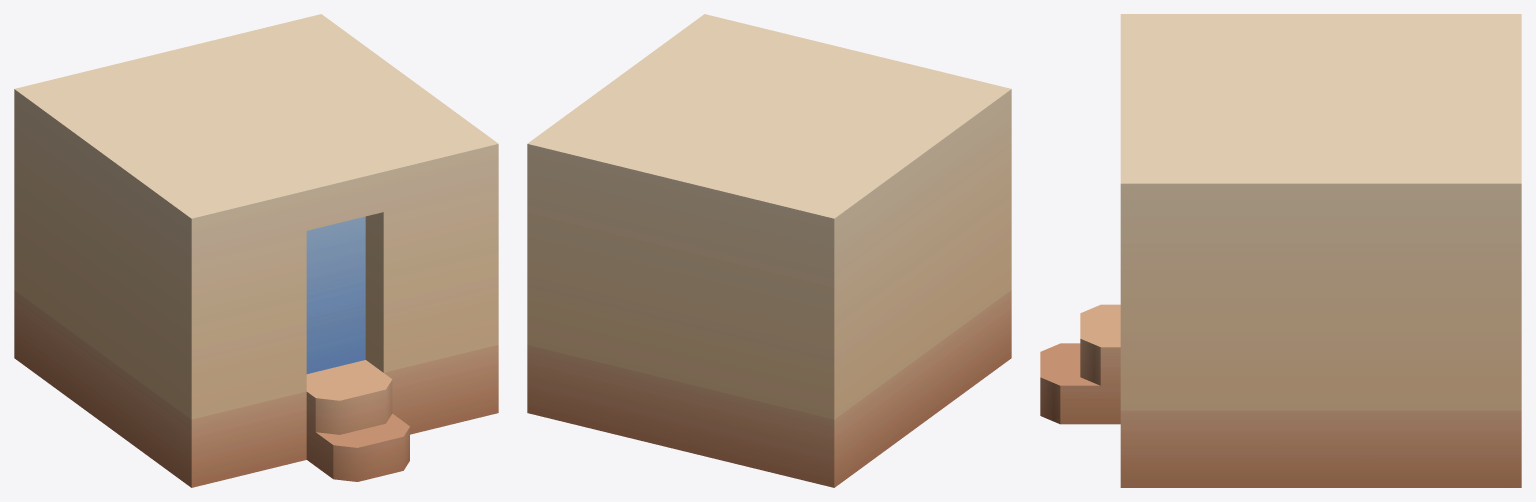
File: kenney-modular-buildings-building-steps-narrow.glb
3 views of the same model, side by side, from view 1: azimuth 30°, elevation 25°; view 2: azimuth 150°, elevation 25°; view 3: azimuth 270°, elevation 25° (orthographic). The views are drawn at different scales.
Parts seen in each view (by area): view 1: building-steps-narrow; view 2: building-steps-narrow; view 3: building-steps-narrow.
Boxes of the visible parts, x1,y1,x2,y2 form: building-steps-narrow: (14,14,498,487); building-steps-narrow: (527,14,1011,487); building-steps-narrow: (1040,14,1521,487).
Size of the model in its own units: 1 by 0.8375 by 1.2.
1 material, 1 textured.
